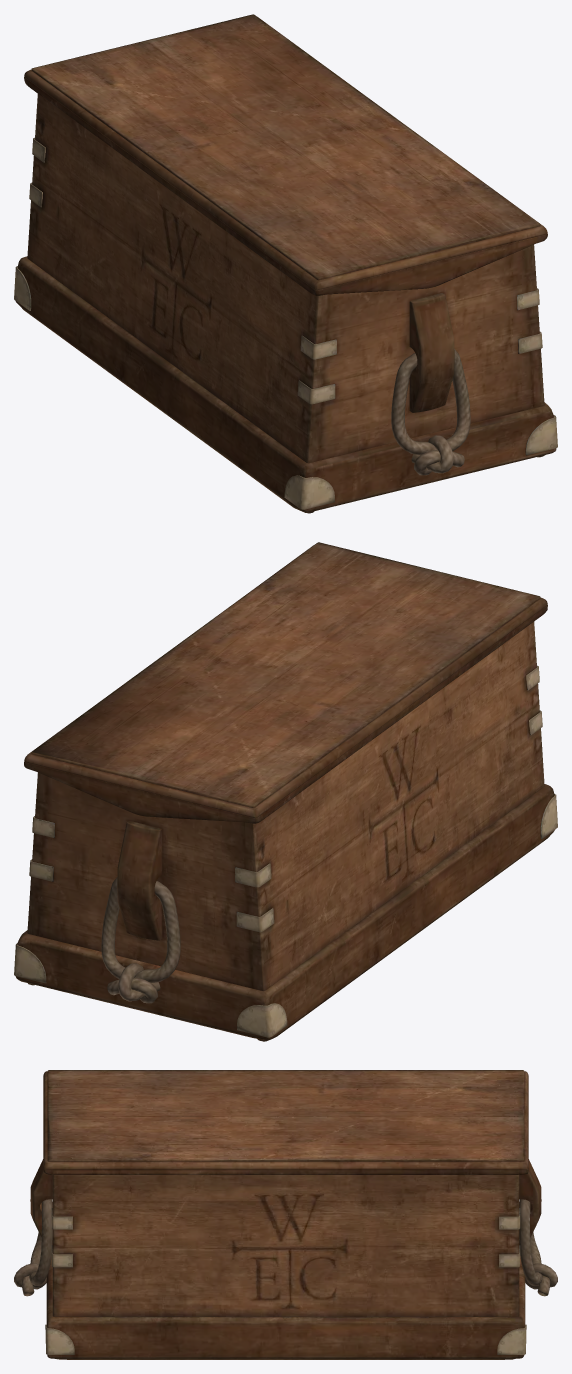
File: wooden_crate_02.glb
The picture shows the model from 3 angles, top to bottom: view 1: azimuth 30°, elevation 25°; view 2: azimuth 150°, elevation 25°; view 3: azimuth 270°, elevation 25°; orthographic projection. The views are drawn at different scales.
Parts seen in each view (by area): view 1: wooden_crate_02_crate; view 2: wooden_crate_02_crate; view 3: wooden_crate_02_crate.
Part boxes in pixels (left/top/right/bottom): wooden_crate_02_crate: left=14, top=14, right=557, bottom=513; wooden_crate_02_crate: left=14, top=542, right=557, bottom=1041; wooden_crate_02_crate: left=14, top=1070, right=557, bottom=1359.
Bounding box in the file's own units: 0.5291 × 0.4639 × 1.17.
Materials: 1 (1 with a texture image).
